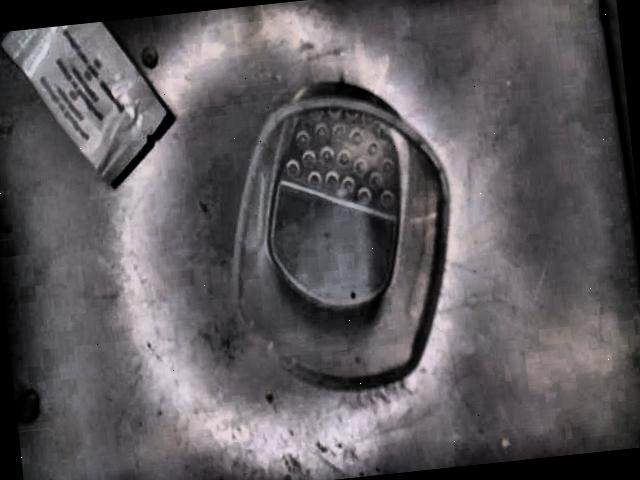Plastic: (229, 83, 455, 386), (1, 22, 173, 186)
